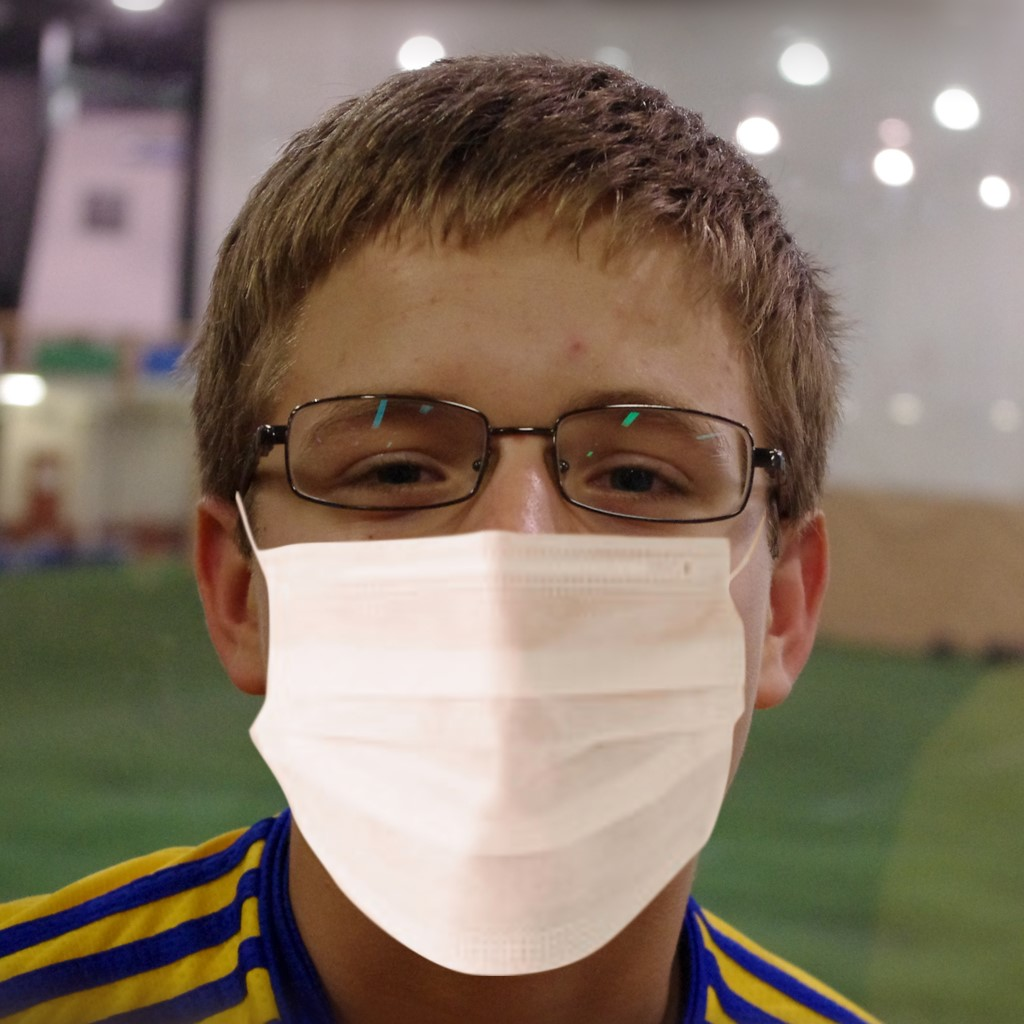con_mascara: (242, 169, 768, 945)
